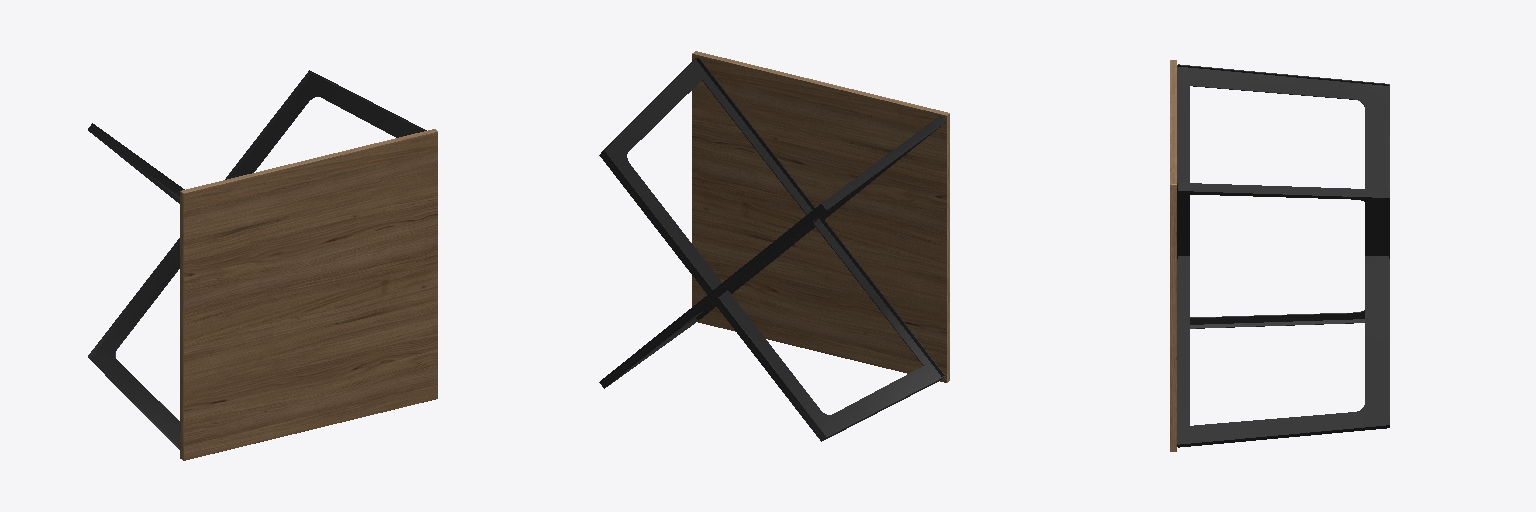
3 renders of one model, left to right at view 1: azimuth 30°, elevation 25°; view 2: azimuth 150°, elevation 25°; view 3: azimuth 270°, elevation 25°, orthographic.
Size of the model in its own units: 0.6803 by 0.6823 by 0.5086.
1 materials, 1 textured.